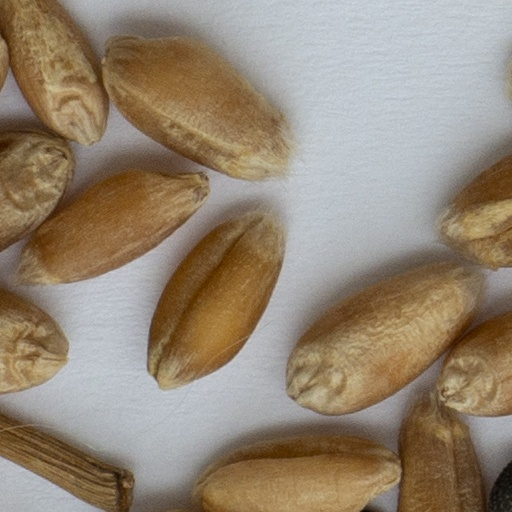Peel-poly: (0, 415, 134, 511)
